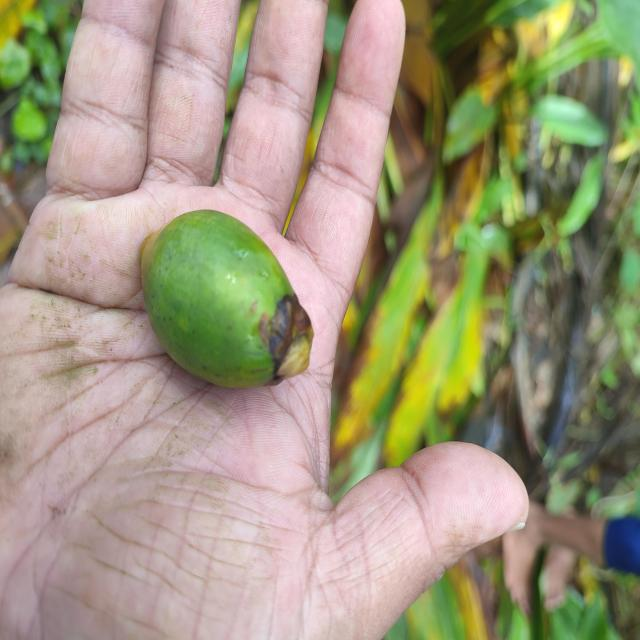good: (144, 211, 314, 391)
